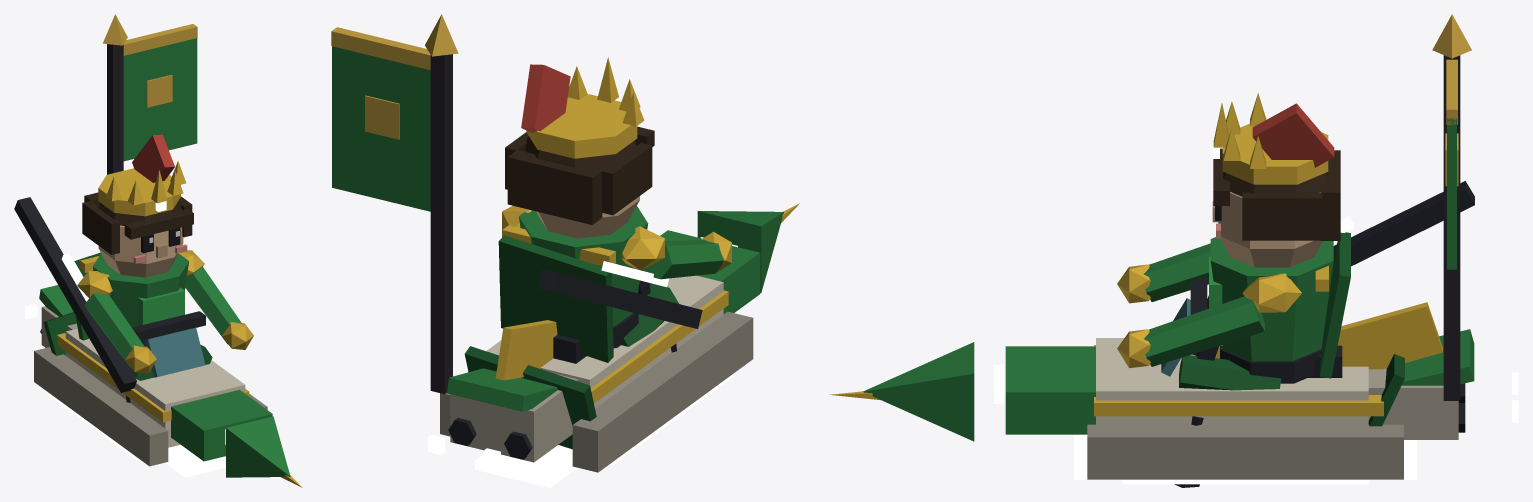
File: hero_alexander.glb
The picture shows the model from 3 angles, left to right: view 1: azimuth 30°, elevation 25°; view 2: azimuth 150°, elevation 25°; view 3: azimuth 270°, elevation 25°; orthographic projection. The views are drawn at different scales.
Parts seen in each view (by area): view 1: body, arm_l, arm_r, glow; view 2: body, glow, arm_l; view 3: body, arm_r, glow, arm_l.
Boxes of the visible parts, <box> form: body: <box>14,14,302,487</box>; arm_l: <box>84,292,156,373</box>; arm_r: <box>185,266,253,349</box>; glow: <box>25,201,225,477</box>; body: <box>331,14,799,472</box>; glow: <box>427,98,737,487</box>; arm_l: <box>642,231,731,279</box>; body: <box>829,14,1474,487</box>; arm_r: <box>1117,296,1264,368</box>; glow: <box>994,141,1518,484</box>; arm_l: <box>1117,243,1210,303</box>.
Bounding box in the file's own units: 0.8605 × 1.58 × 2.07.
